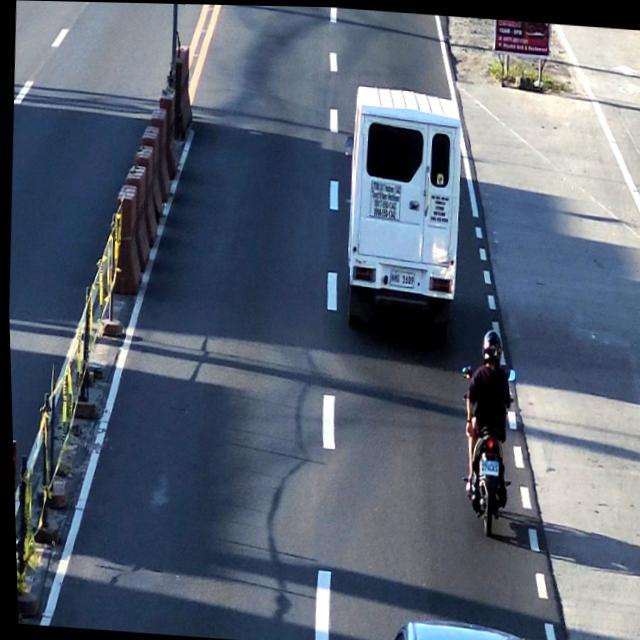Car: (331, 88, 471, 325), (381, 616, 526, 640)
License-Plate: (389, 271, 416, 290), (474, 456, 498, 474)
Motorcycle: (446, 323, 515, 540)
